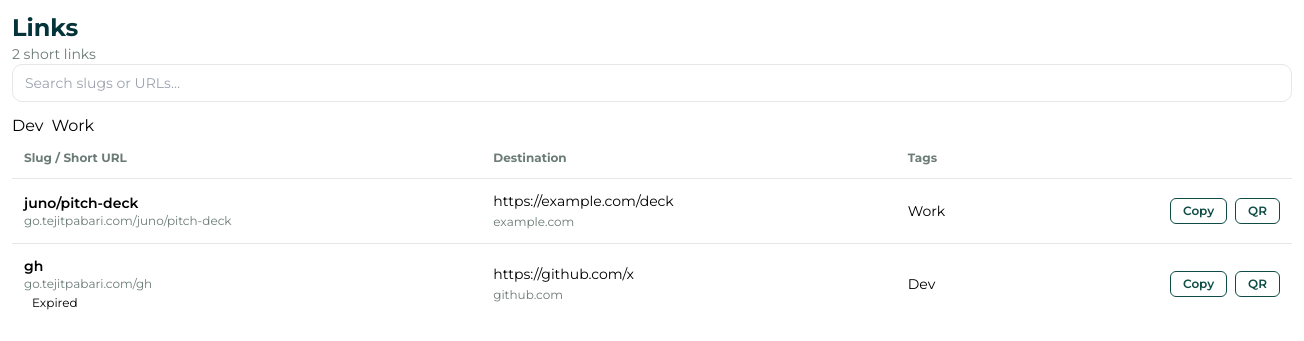
Test case: Links page › filters by search text
The image size is (1304, 341).
Expected: the row with test id "row-gh" is shown, top-left (12, 244), bottom-right (1292, 324)
Type "juno" into the field with placeholder "Search slugs or URLs…". click: [652, 83]
box: top-left (12, 64), bottom-right (1292, 102)
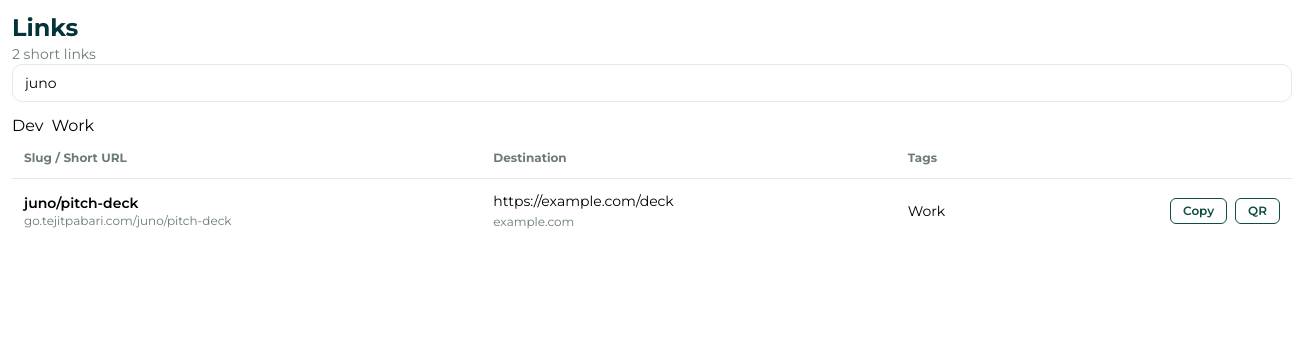
Expected: the row with test id "row-juno/pitch-deck" is shown, top-left (12, 178), bottom-right (1292, 243)
Result: the row with test id "row-gh" is gone
